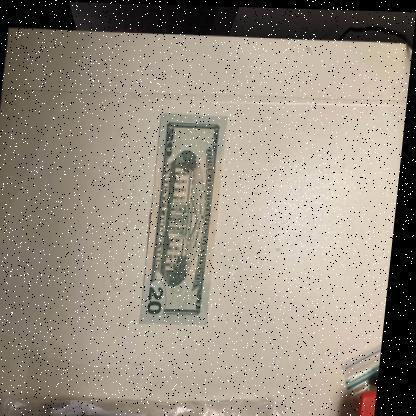dollar_back: (145, 112, 230, 326)
